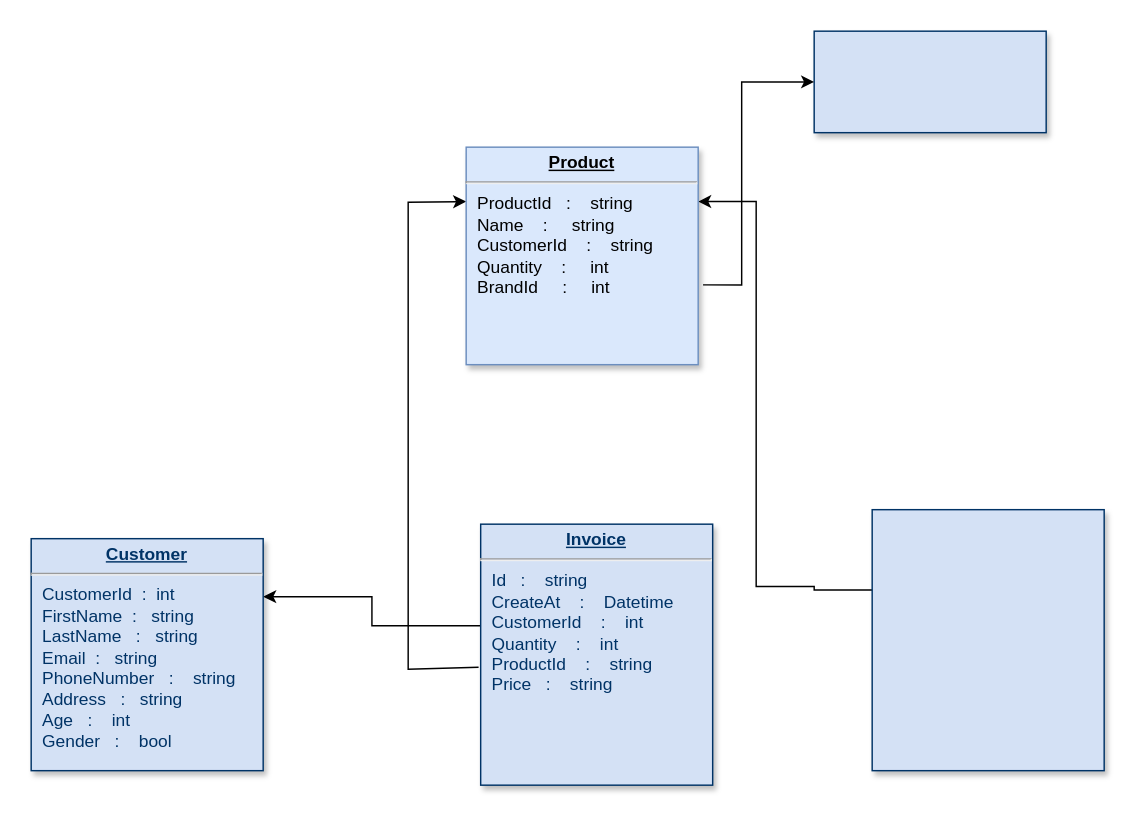
Image size: 1138x821. Some labels were removed from this diagram. Each missing label, with the centre of its shape:
"Brand Id : int Name : string" belongs at point (931, 83).
"Inventory Id ProductId Name" belongs at point (989, 641).
